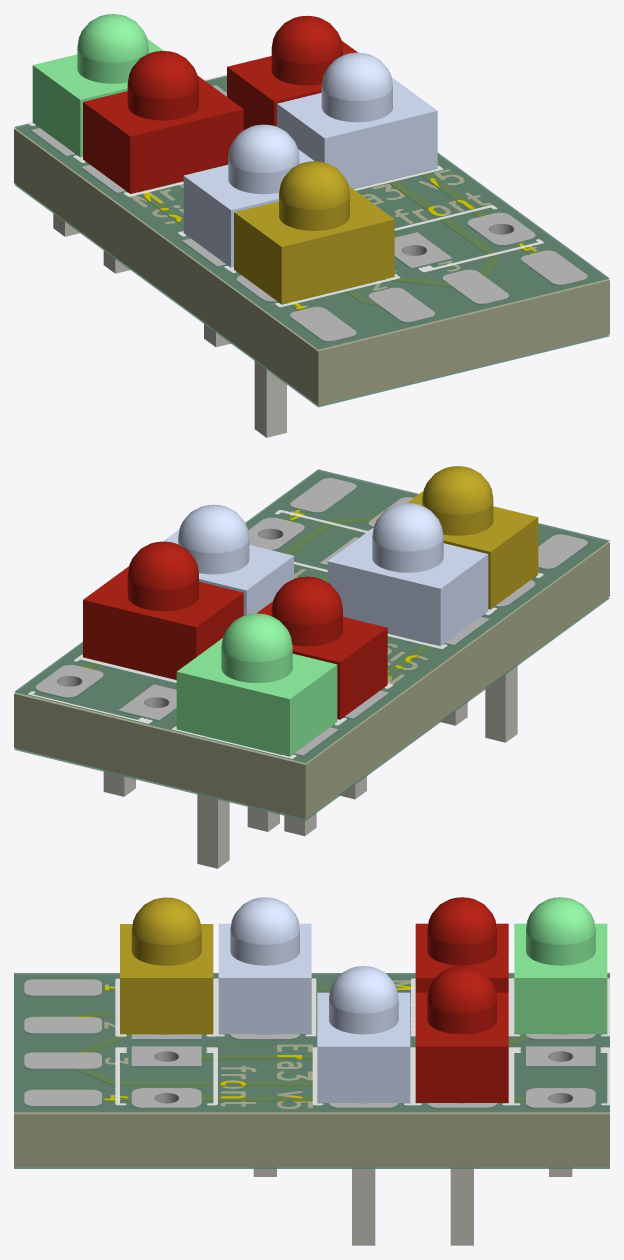
File: MrJ-DB-Era3-prod-exit-test-w4.glb
The picture shows the model from 3 angles, top to bottom: view 1: azimuth 30°, elevation 25°; view 2: azimuth 150°, elevation 25°; view 3: azimuth 270°, elevation 25°; orthographic projection. The views are drawn at different scales.
Parts seen in each view (by area): view 1: =>[0:1:1:15], =>[0:1:1:3] (×2), =>[0:1:1:9] (×2), =>[0:1:1:13], =>[0:1:1:7], =>[0:1:1:11], =>[0:1:1:5], =>[0:1:1:10], =>[0:1:1:12], =>[0:1:1:14]; view 2: =>[0:1:1:15], =>[0:1:1:3] (×2), =>[0:1:1:9] (×2), =>[0:1:1:5], =>[0:1:1:13], =>[0:1:1:7], =>[0:1:1:11], =>[0:1:1:12], =>[0:1:1:14], =>[0:1:1:10]; view 3: =>[0:1:1:15], =>[0:1:1:13], =>[0:1:1:9] (×2), =>[0:1:1:3] (×2), =>[0:1:1:11], =>[0:1:1:5], =>[0:1:1:7], =>[0:1:1:12], =>[0:1:1:10], =>[0:1:1:14].
Part boxes in pixels (bbox=[...]): =>[0:1:1:15]: bbox=[14, 77, 609, 405]; =>[0:1:1:3] (×2): bbox=[83, 15, 357, 273]; =>[0:1:1:9] (×2): bbox=[183, 52, 437, 347]; =>[0:1:1:13]: bbox=[14, 75, 609, 349]; =>[0:1:1:7]: bbox=[234, 161, 394, 437]; =>[0:1:1:11]: bbox=[31, 85, 587, 341]; =>[0:1:1:5]: bbox=[32, 14, 163, 236]; =>[0:1:1:10]: bbox=[140, 173, 537, 310]; =>[0:1:1:12]: bbox=[27, 74, 543, 307]; =>[0:1:1:14]: bbox=[14, 184, 609, 407]; =>[0:1:1:15]: bbox=[14, 471, 609, 818]; =>[0:1:1:3] (×2): bbox=[83, 541, 387, 831]; =>[0:1:1:9] (×2): bbox=[163, 503, 488, 725]; =>[0:1:1:5]: bbox=[176, 613, 337, 868]; =>[0:1:1:13]: bbox=[14, 469, 609, 762]; =>[0:1:1:7]: bbox=[407, 466, 538, 742]; =>[0:1:1:11]: bbox=[35, 478, 587, 756]; =>[0:1:1:12]: bbox=[28, 510, 543, 758]; =>[0:1:1:14]: bbox=[14, 598, 609, 820]; =>[0:1:1:10]: bbox=[84, 509, 538, 678]; =>[0:1:1:15]: bbox=[14, 975, 609, 1167]; =>[0:1:1:13]: bbox=[14, 973, 609, 1112]; =>[0:1:1:9] (×2): bbox=[218, 897, 410, 1245]; =>[0:1:1:3] (×2): bbox=[415, 897, 508, 1245]; =>[0:1:1:11]: bbox=[24, 979, 595, 1108]; =>[0:1:1:5]: bbox=[514, 897, 607, 1176]; =>[0:1:1:7]: bbox=[120, 897, 213, 1034]; =>[0:1:1:12]: bbox=[115, 978, 609, 1105]; =>[0:1:1:10]: bbox=[76, 986, 528, 1101]; =>[0:1:1:14]: bbox=[14, 1167, 609, 1168].
Size of the model in its own units: 0.00851 by 0.0071 by 0.0154.
